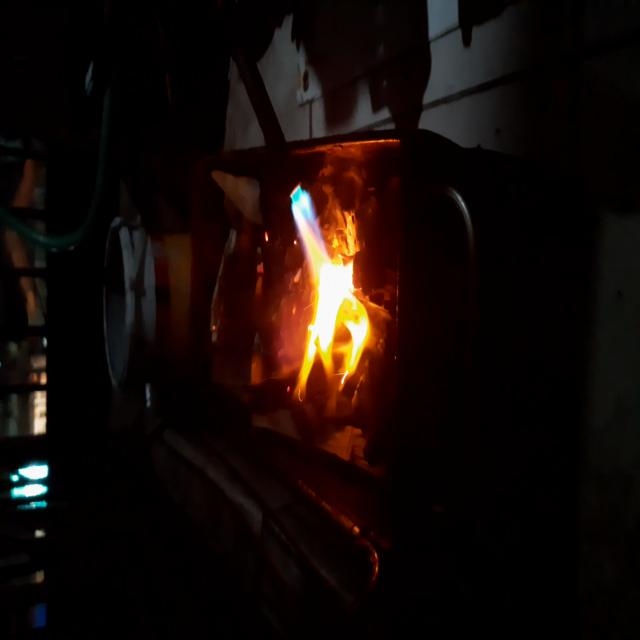Fire: (276, 181, 384, 416)
